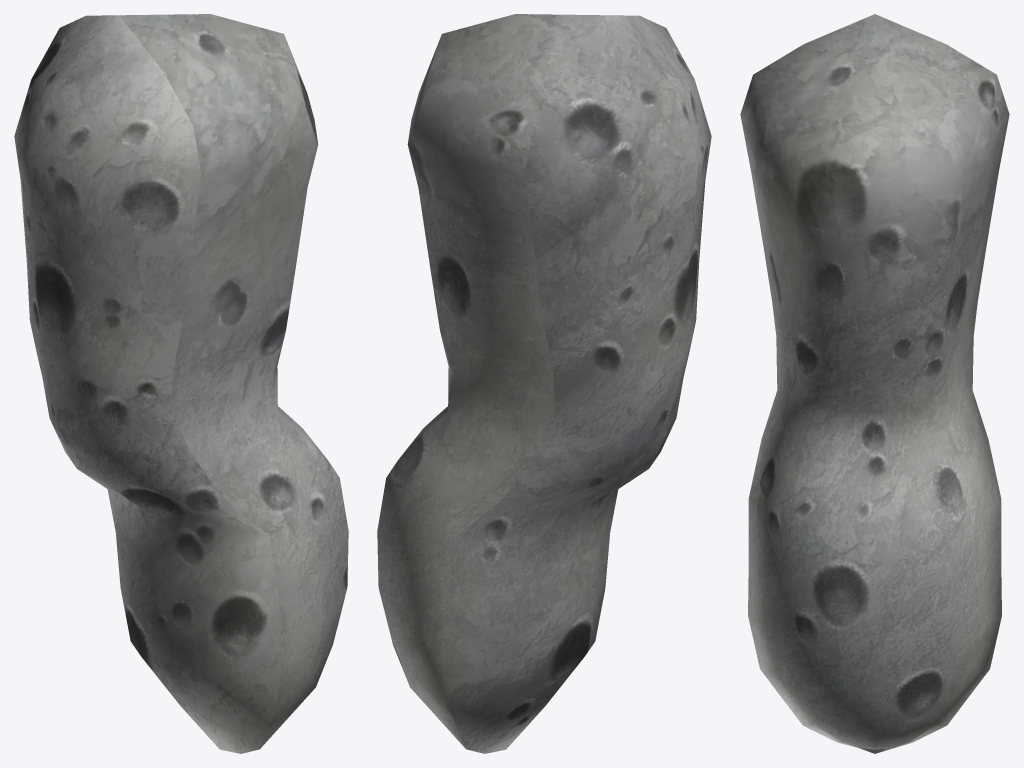
Rendered from rockL.fbx.
3 renders of one model, left to right at view 1: azimuth 30°, elevation 25°; view 2: azimuth 150°, elevation 25°; view 3: azimuth 270°, elevation 25°, orthographic. The views are drawn at different scales.
Parts seen in each view (by area): view 1: pCube3; view 2: pCube3; view 3: pCube3.
Part boxes in pixels (x1,y1,x2,y2): pCube3: (14, 14, 348, 753); pCube3: (377, 14, 711, 753); pCube3: (740, 14, 1009, 753).
Size of the model in its own units: 170 by 411 by 145.
Materials: 1 (1 with a texture image).
